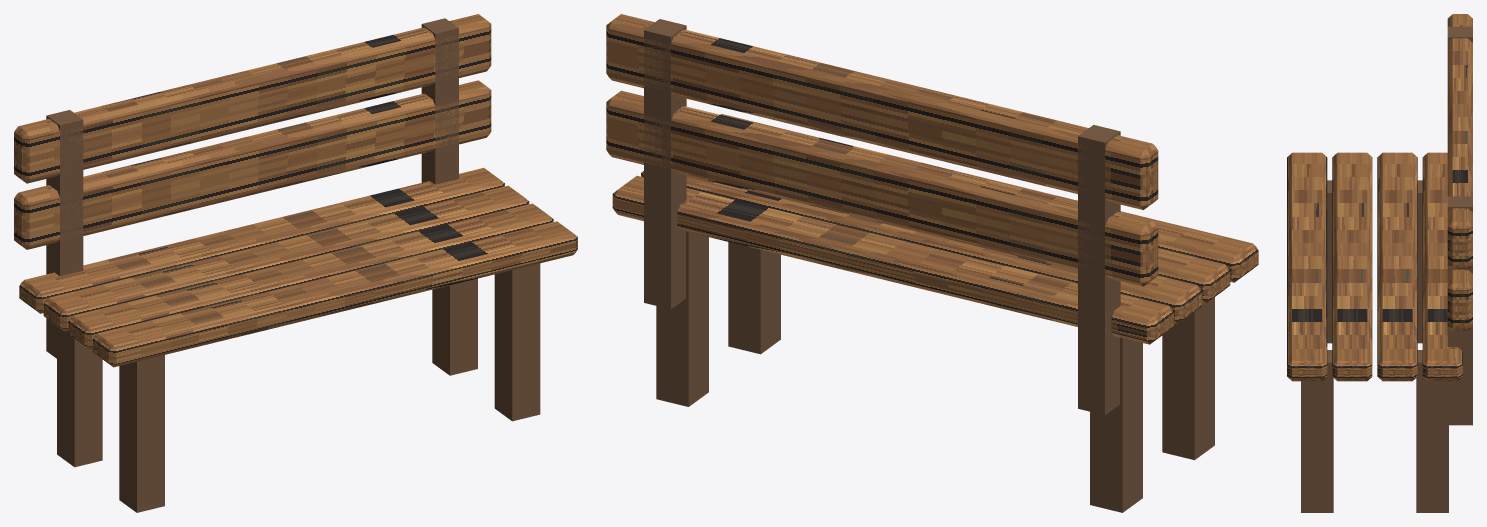
File: bench.glb
3 views of the same model, side by side, from view 1: azimuth 30°, elevation 25°; view 2: azimuth 150°, elevation 25°; view 3: azimuth 270°, elevation 25° (orthographic). The views are drawn at different scales.
Visible parts, largest first — view 1: bench_timber, bench_beam; view 2: bench_timber, bench_beam; view 3: bench_timber, bench_beam.
Part boxes in pixels (box(x1,y1,x2,y2)): bench_timber: box(14, 14, 577, 367); bench_beam: box(46, 18, 540, 512); bench_timber: box(606, 14, 1258, 344); bench_beam: box(644, 19, 1214, 512); bench_timber: box(1287, 14, 1472, 381); bench_beam: box(1301, 26, 1472, 512).
Size of the model in its own units: 2 by 1.34 by 0.74.
2 materials, 1 textured.
